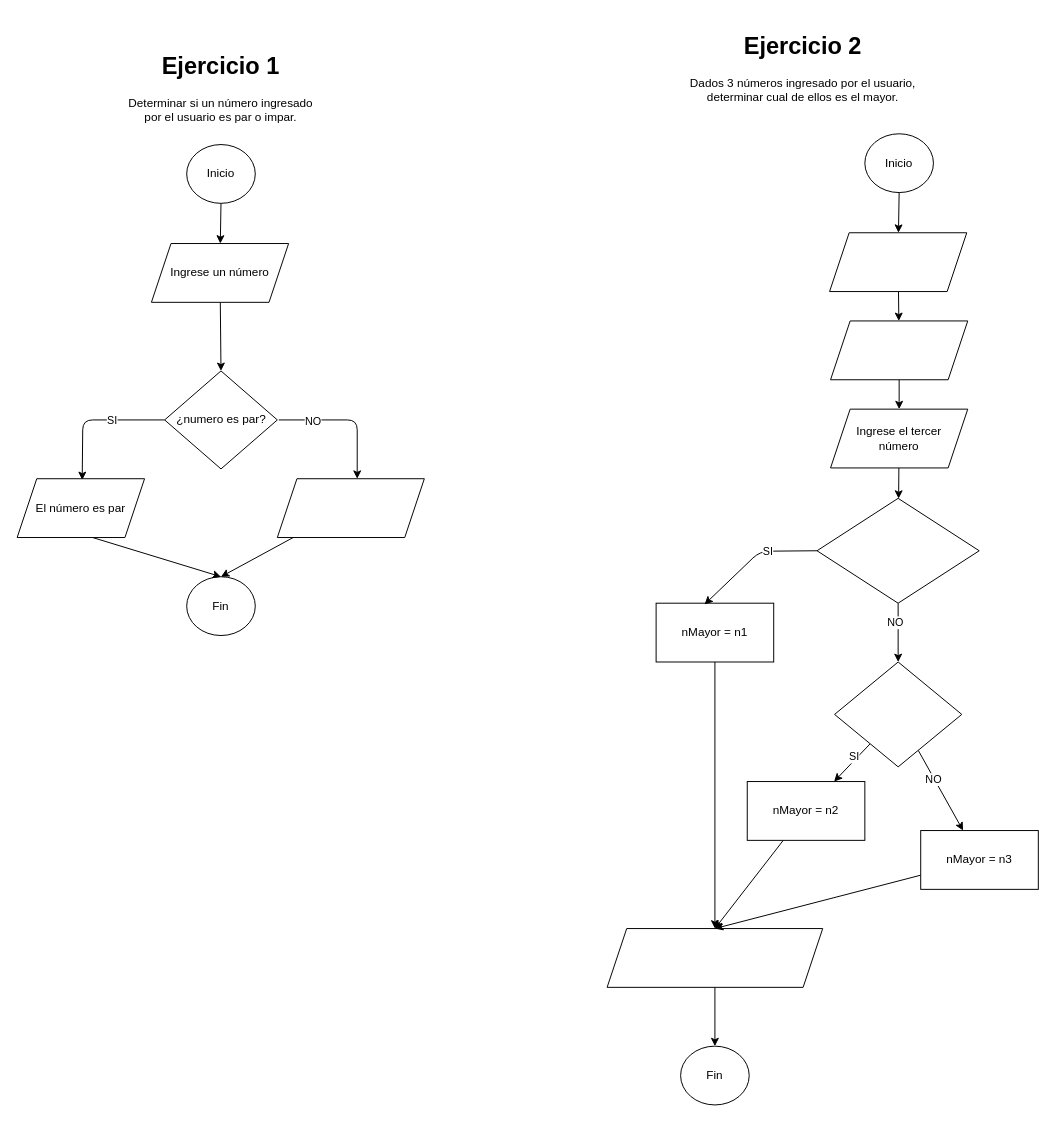
Some shapes in this 1055 by 1122 pixel diagram are drawn without their labels. Each missing label, with the box of its shape:
El número es impar: (276, 478, 424, 538)
El número mayor es nMayor: (606, 928, 823, 987)
Ingrese el primer número: (829, 232, 967, 292)
Ingrese el segundo número: (830, 320, 968, 380)
n1 es mayor a n2 y n1 es mayor a n3: (816, 497, 979, 603)
n2 es mayor a n3: (834, 661, 962, 767)
